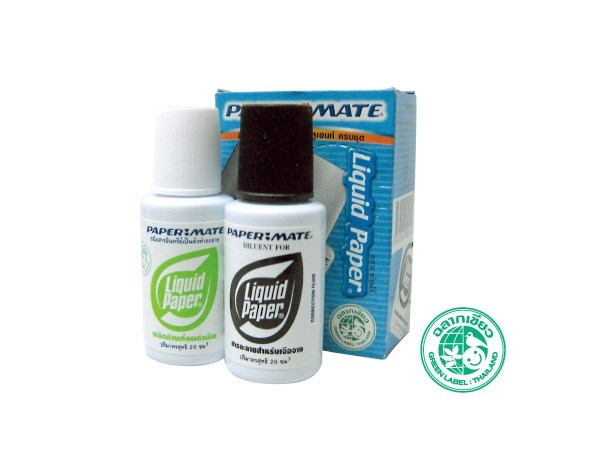Correction_fluid: (219, 98, 330, 386), (137, 102, 234, 368)
